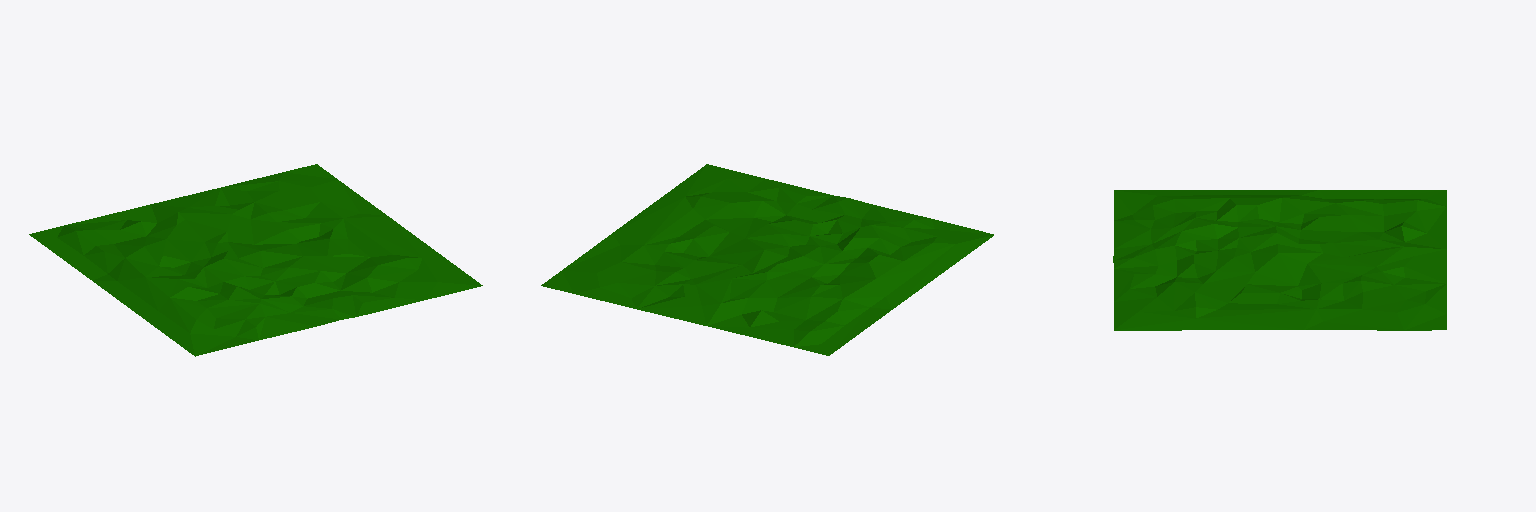
The model's file is terrain02.obj.
3 renders of one model, left to right at view 1: azimuth 30°, elevation 25°; view 2: azimuth 150°, elevation 25°; view 3: azimuth 270°, elevation 25°, orthographic.
Parts seen in each view (by area): view 1: Plane; view 2: Plane; view 3: Plane.
Part boxes in pixels (bbox=[...]): Plane: bbox=[29, 164, 482, 356]; Plane: bbox=[541, 164, 993, 355]; Plane: bbox=[1113, 190, 1446, 330].
Size of the model in its own units: 50 by 2.35 by 50.01.